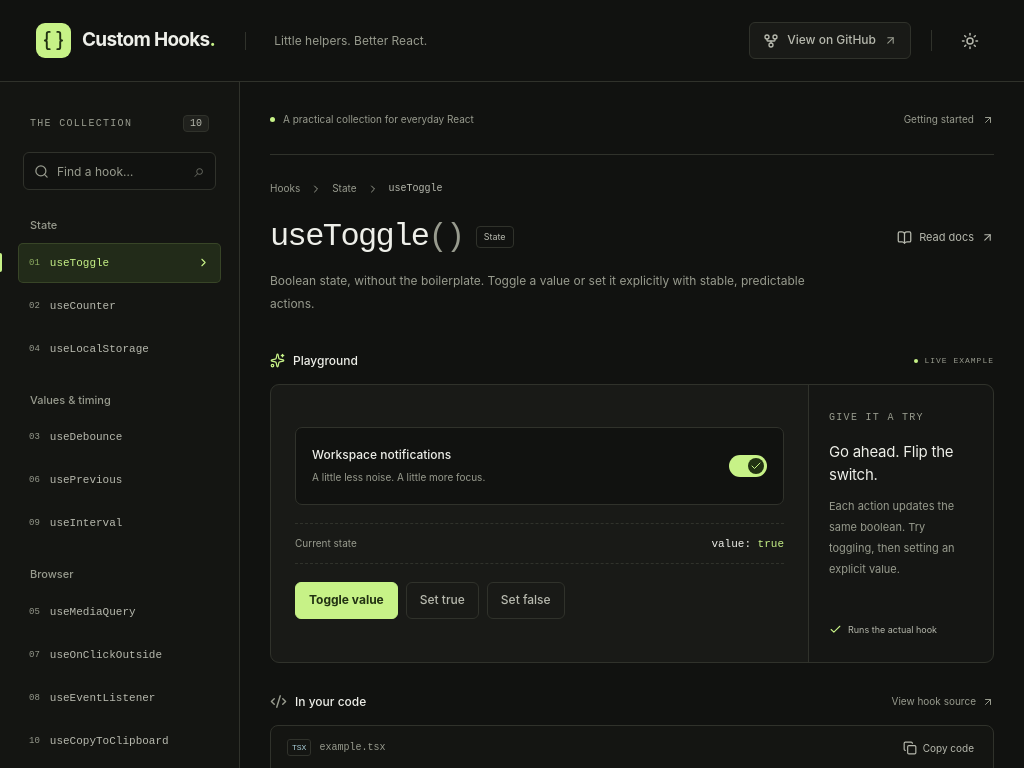
Test: playground › copies the usage example through the Clipboard API
Click the button "Copy code": (938, 748) [900, 736, 977, 760]
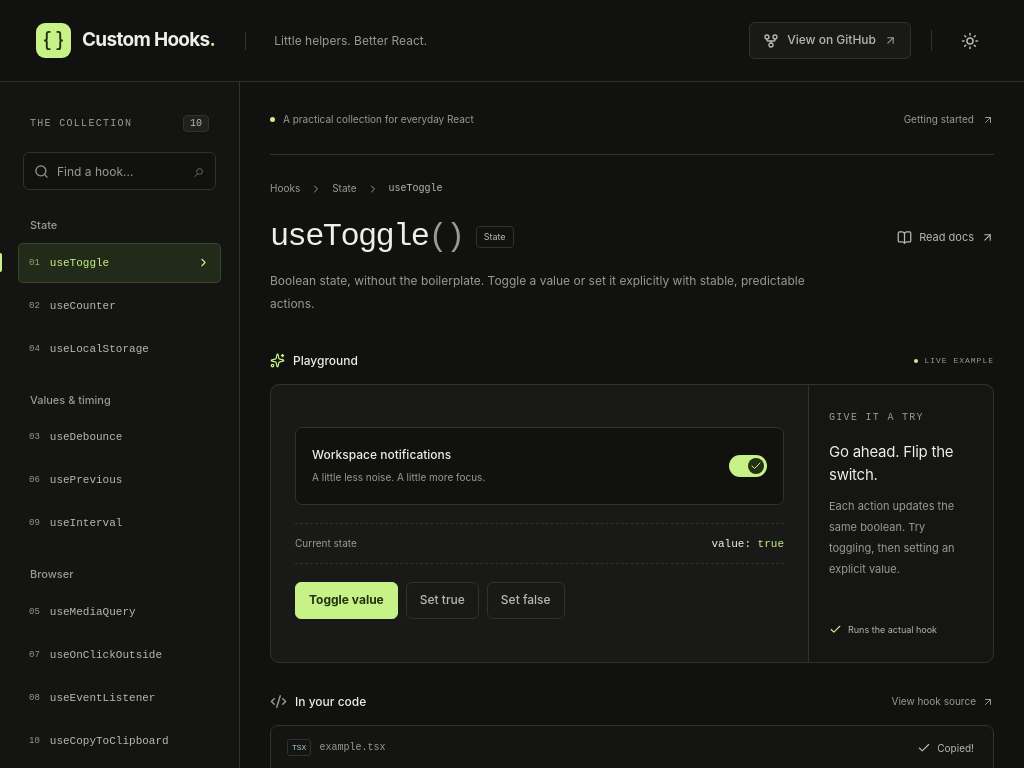
Expected: the button "Copied!" is shown, [914, 736, 977, 760]
